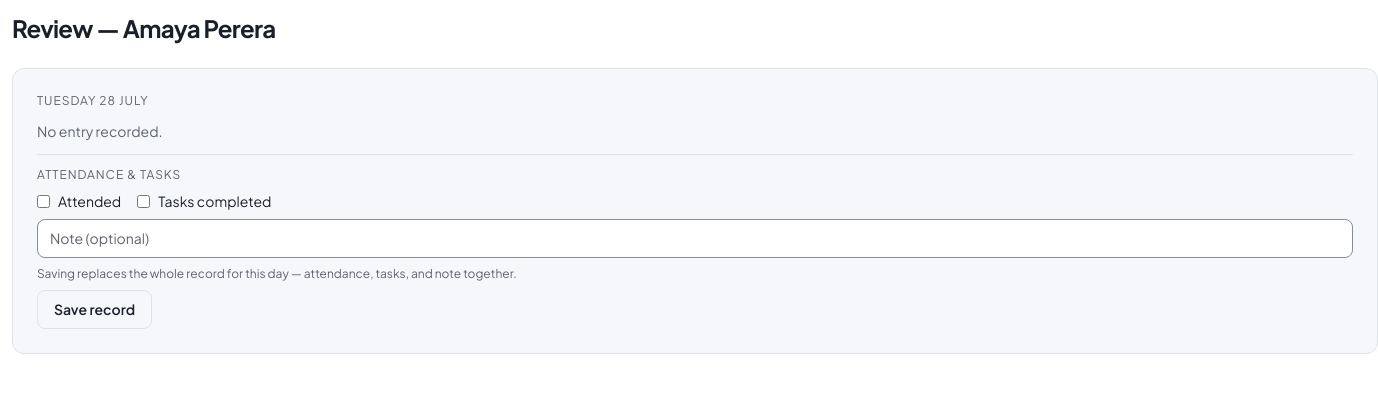
Test: StudentReviewPage › surfaces the day-record save's rejection as role=alert
Expected: the form named "Mentor note for 2026-07-28" is shown, [37,154,1353,329]
Click the button "Save record" at x=95, y=310, box [37,290,152,329]
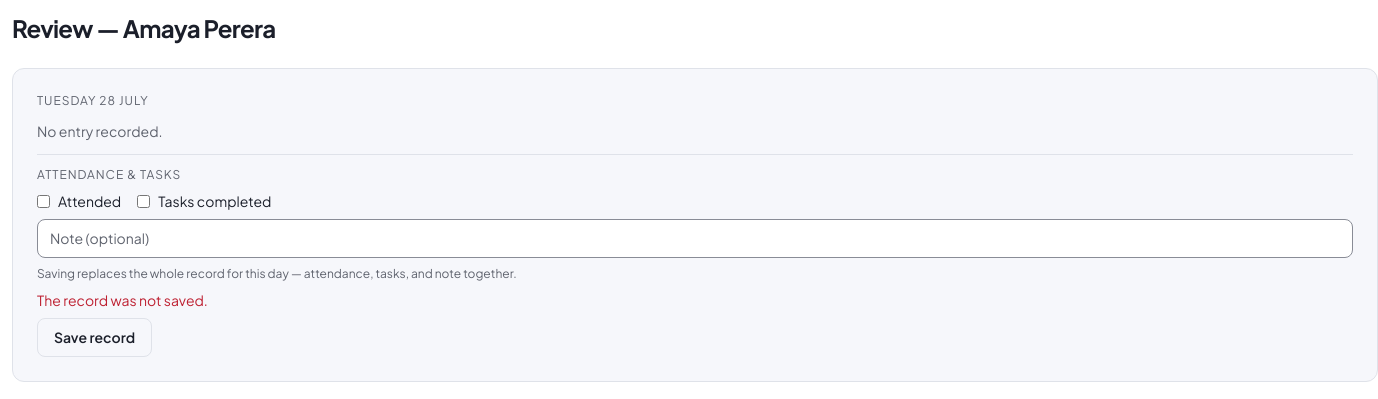
Result: the message reads "The record was not saved." at [37,291,208,309]
